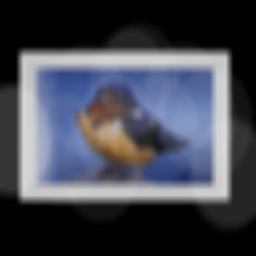Swallow: (71, 79, 208, 183)
